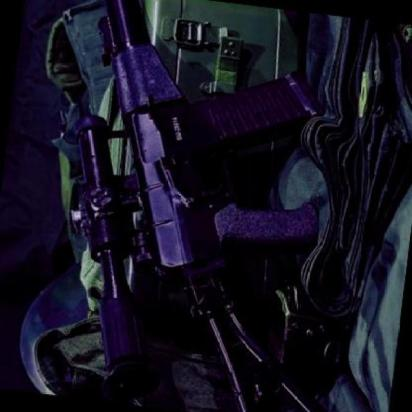Gun: (29, 0, 324, 411)
